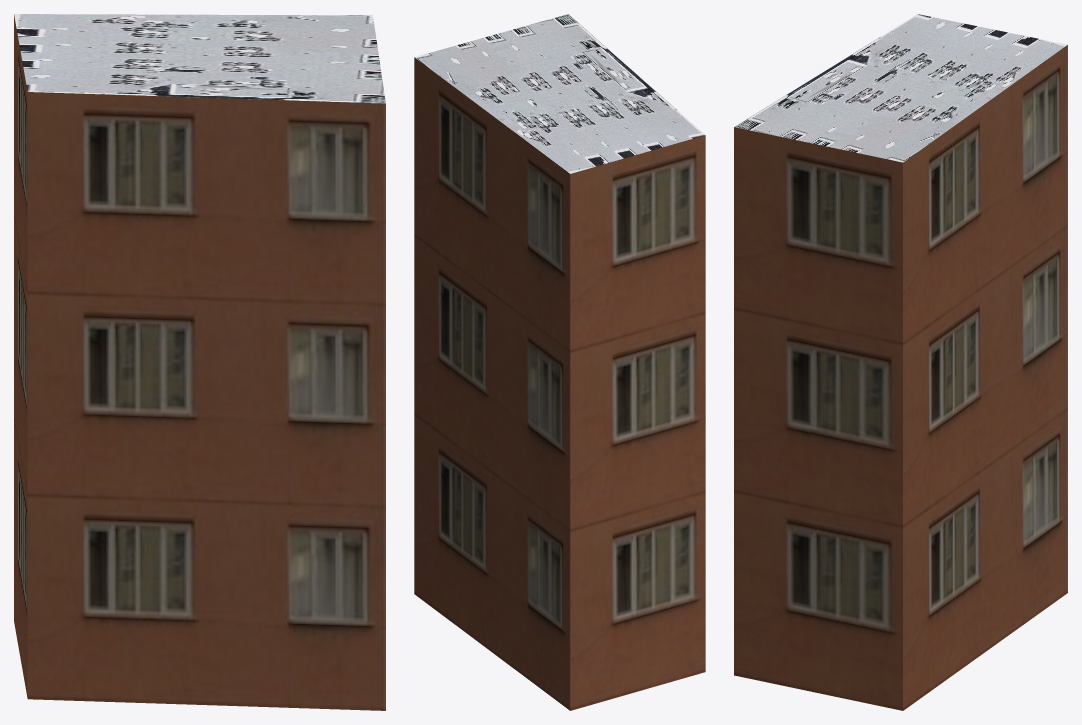
File: ResTex__3143.fbx
3 renders of one model, left to right at view 1: azimuth 30°, elevation 25°; view 2: azimuth 150°, elevation 25°; view 3: azimuth 270°, elevation 25°, orthographic. The views are drawn at different scales.
Parts seen in each view (by area): view 1: CityEngineMaterial_20_m, CityEngineMaterial_2_m; view 2: CityEngineMaterial_20_m, CityEngineMaterial_2_m; view 3: CityEngineMaterial_20_m, CityEngineMaterial_2_m.
Part boxes in pixels (bbox=[...]): CityEngineMaterial_20_m: bbox=[14, 15, 385, 710]; CityEngineMaterial_2_m: bbox=[14, 14, 385, 103]; CityEngineMaterial_20_m: bbox=[414, 57, 705, 710]; CityEngineMaterial_2_m: bbox=[414, 14, 704, 173]; CityEngineMaterial_20_m: bbox=[734, 45, 1067, 710]; CityEngineMaterial_2_m: bbox=[734, 14, 1067, 162].
Bounding box in the file's own units: 5.23 × 9 × 4.96.
2 materials, 2 textured.
